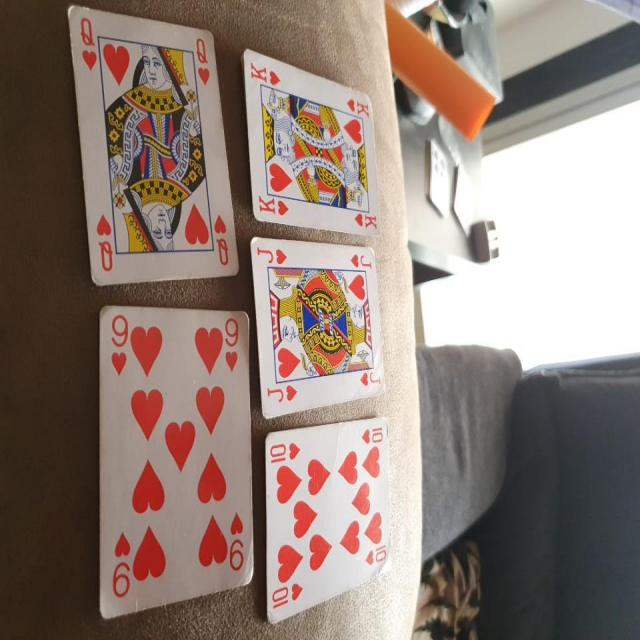10 Hearts: (258, 415, 396, 624)
9 Hearts: (92, 293, 258, 626)
J Hearts: (243, 227, 390, 420)
K Hearts: (239, 42, 385, 236)
Q Hearts: (60, 9, 245, 288)
